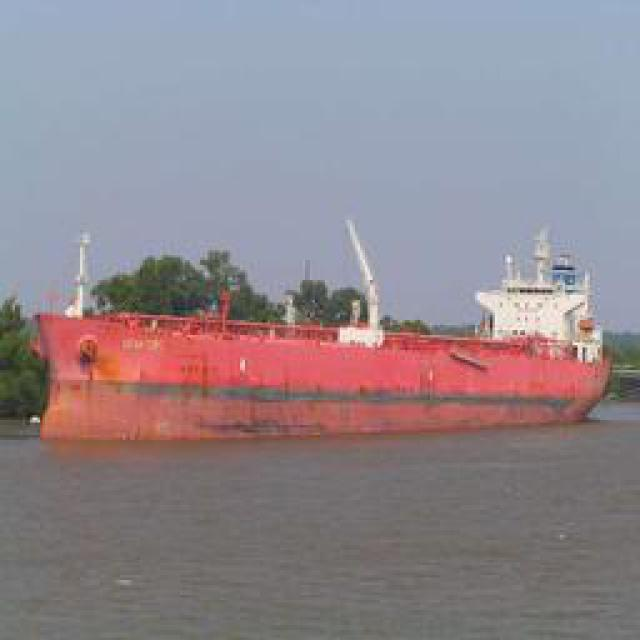Ship: (28, 211, 606, 434)
